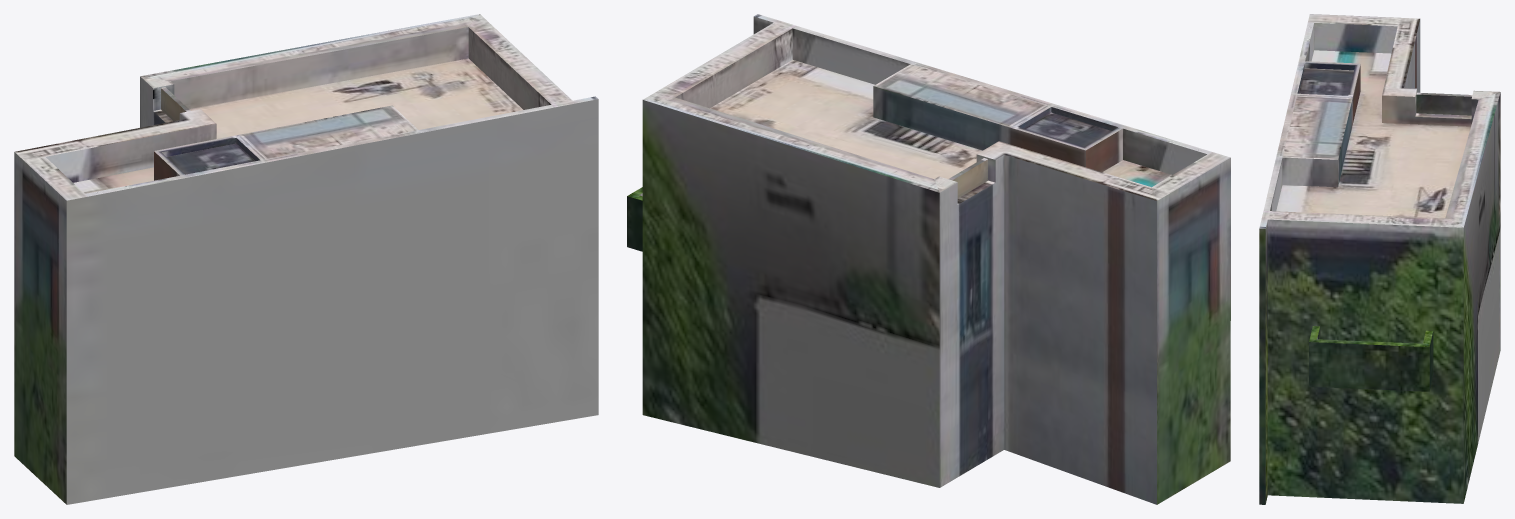
3 renders of one model, left to right at view 1: azimuth 30°, elevation 25°; view 2: azimuth 150°, elevation 25°; view 3: azimuth 270°, elevation 25°, orthographic. The views are drawn at different scales.
Visible parts, largest first — view 1: B286034035701062A0; view 2: B286034035701062A0; view 3: B286034035701062A0.
Part boxes in pixels (x1=…): B286034035701062A0: x1=14, y1=14, x2=598, y2=504; B286034035701062A0: x1=627, y1=14, x2=1230, y2=504; B286034035701062A0: x1=1259, y1=14, x2=1500, y2=504.
Size of the model in its own units: 16.55 by 9.32 by 7.38.
1 material, 1 textured.
